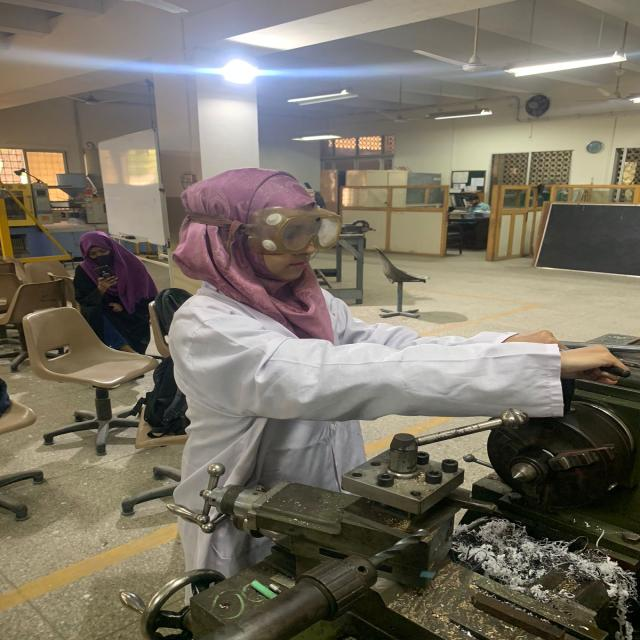googles: (254, 204, 345, 254)
labcoat: (165, 275, 571, 608)
